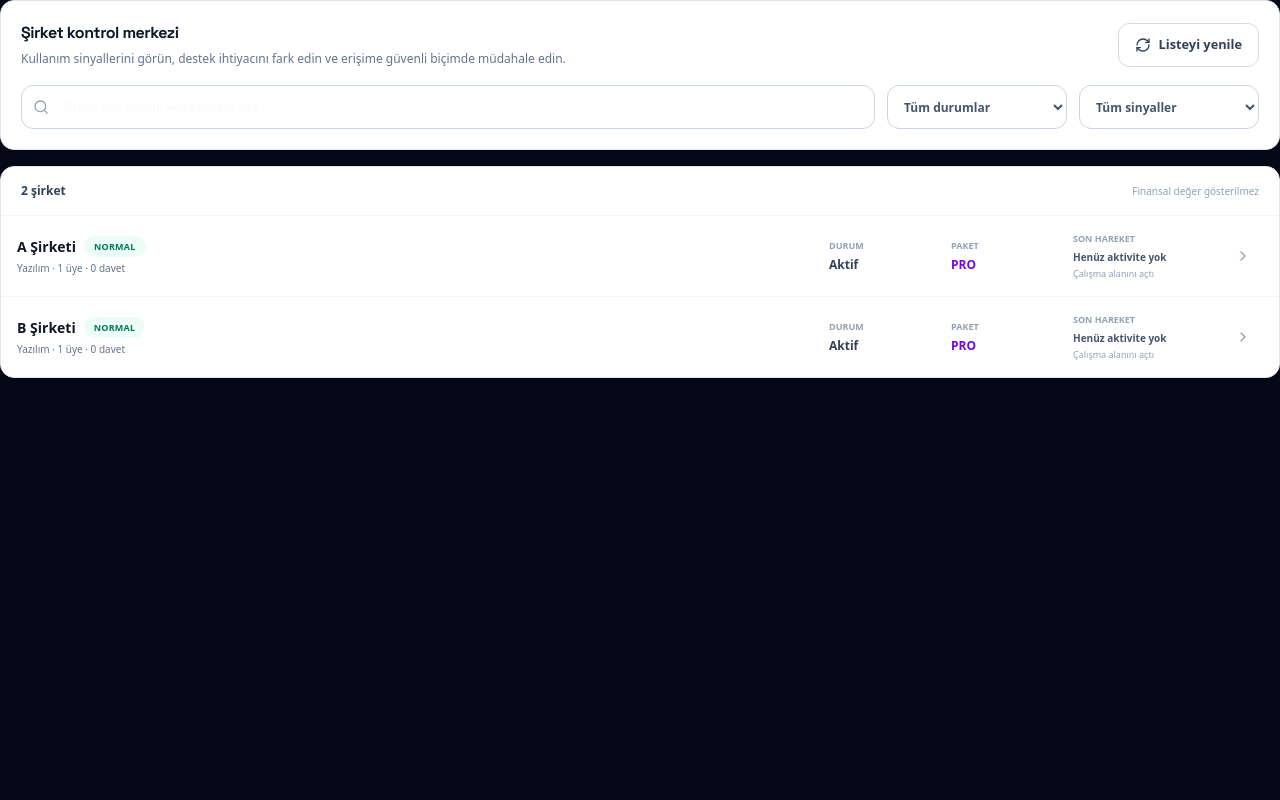
Test: A şirketinin geç ayrıntı yanıtının B şirketini ezmesine izin vermez
This screenshot has width=1280, height=800.
Click the button "A Şirketi" at (46, 246), box [1,216,1279,297]
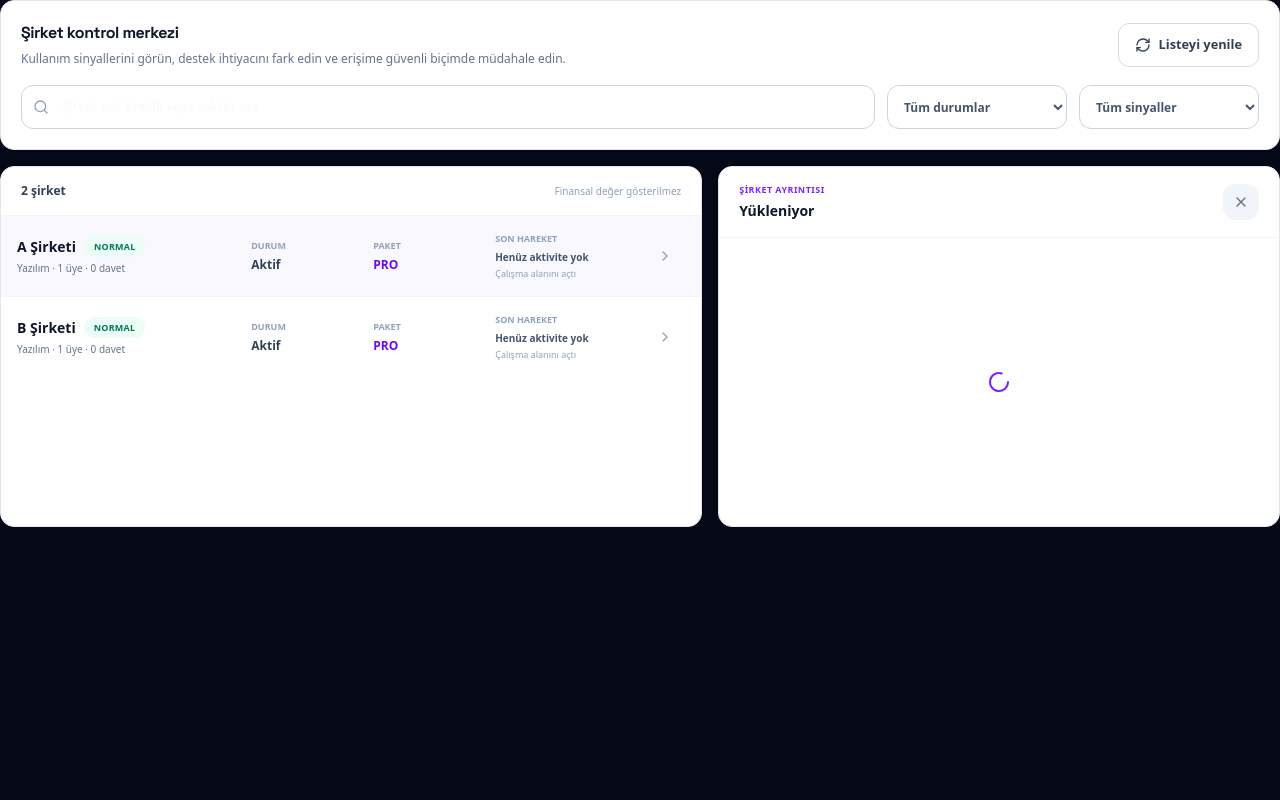
Click the button "B Şirketi" at (46, 327), box [1,297,701,377]
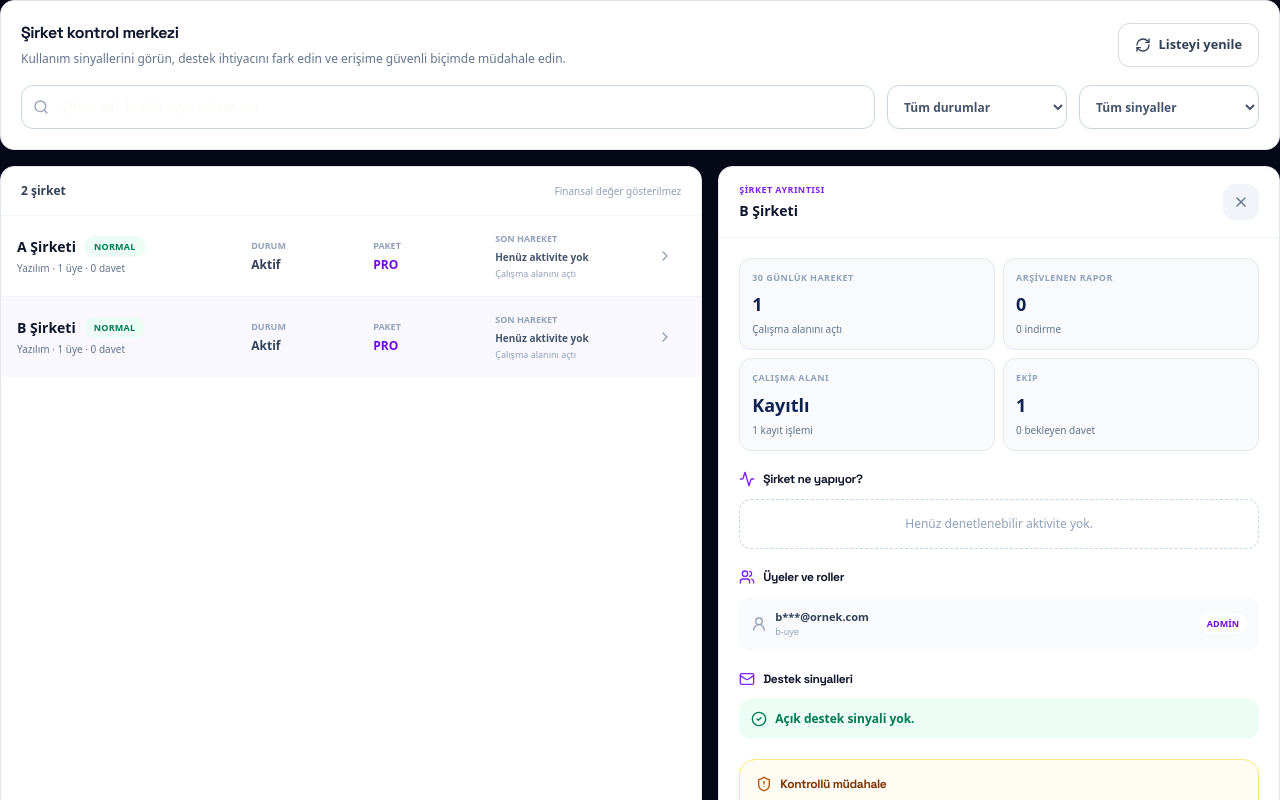
Expected: the text "b***@ornek.com" is shown, [775,608,869,625]
